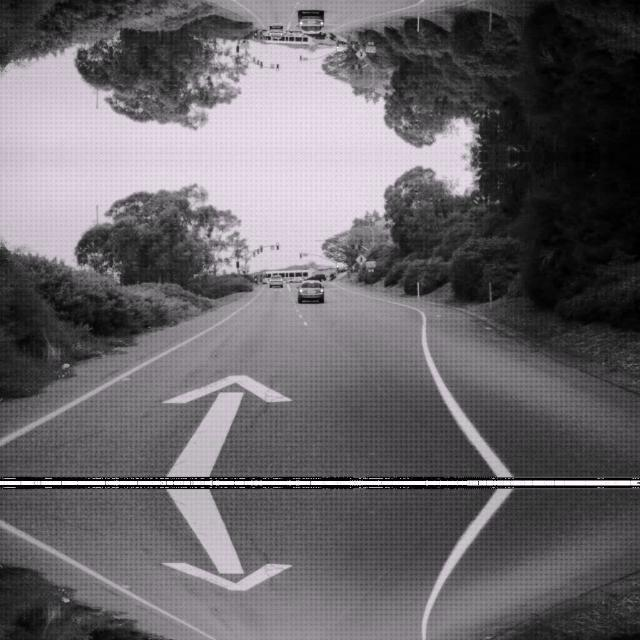pedestrianCrossing: (356, 48, 366, 61), (356, 252, 366, 264)
